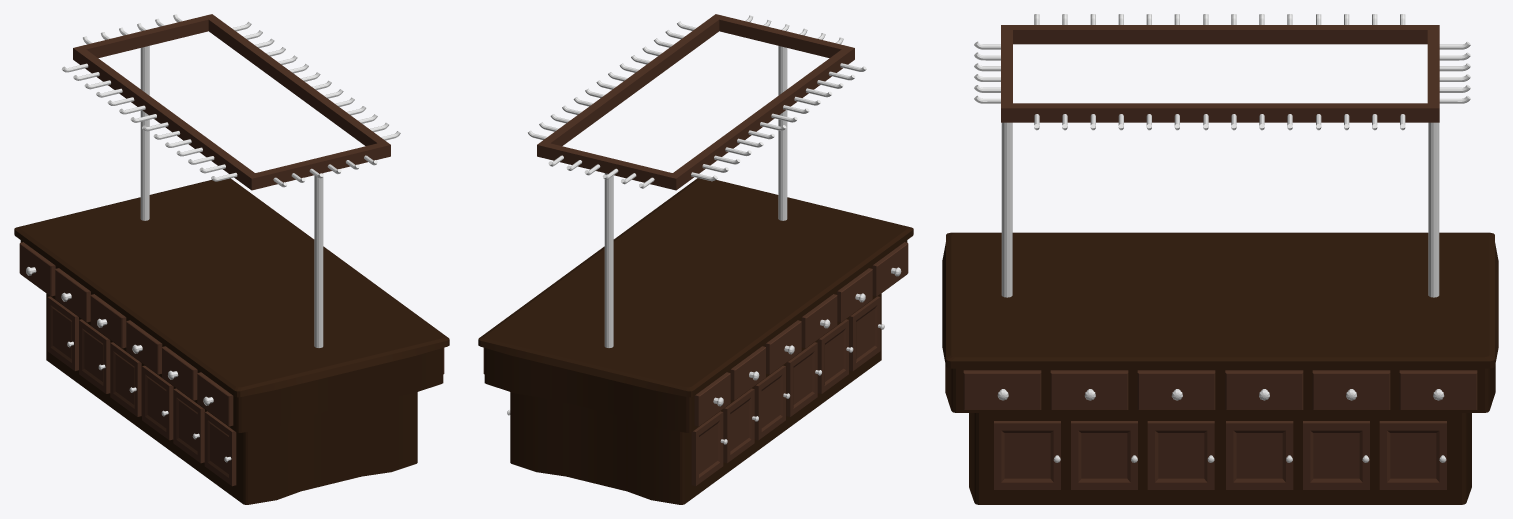
File: KitchenIsland.fbx
The picture shows the model from 3 angles, left to right: view 1: azimuth 30°, elevation 25°; view 2: azimuth 150°, elevation 25°; view 3: azimuth 270°, elevation 25°; orthographic projection. The views are drawn at different scales.
Visible parts, largest first — view 1: polySurface18; view 2: polySurface18; view 3: polySurface18.
Boxes of the visible parts, x1,y1,x2,y2 form: polySurface18: (14,14,449,504); polySurface18: (478,14,913,504); polySurface18: (942,14,1498,504).
Bounding box in the file's own units: 163 × 211 × 276.
